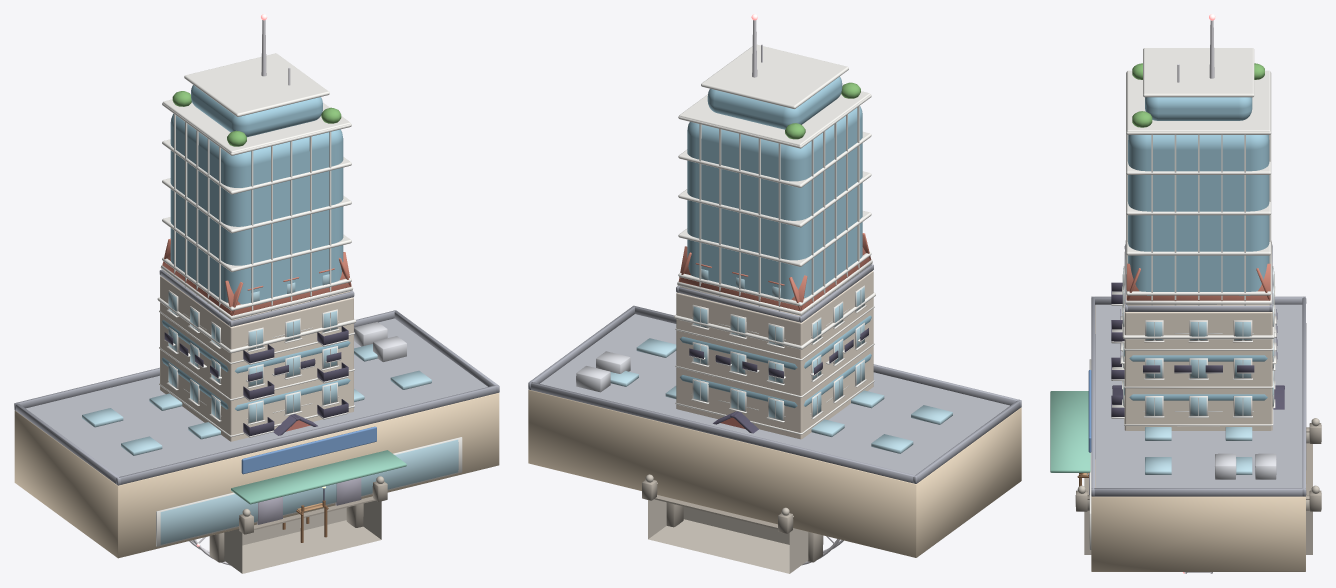
The model's file is kit.glb.
The picture shows the model from 3 angles, left to right: view 1: azimuth 30°, elevation 25°; view 2: azimuth 150°, elevation 25°; view 3: azimuth 270°, elevation 25°; orthographic projection. The views are drawn at different scales.
Parts seen in each view (by area): view 1: Market, City_Tower, City_Apartment, Bridge, City_Office, City_Parisian; view 2: Market, City_Tower, City_Apartment, Bridge, City_Office, City_Parisian; view 3: Market, City_Tower, City_Apartment, City_Office, City_Parisian, Bridge, Barn.
Part boxes in pixels (x1=…): Market: x1=14, y1=310, x2=499, y2=558; City_Tower: x1=162, y1=14, x2=351, y2=315; City_Apartment: x1=159, y1=269, x2=354, y2=441; Bridge: x1=209, y1=476, x2=387, y2=573; City_Office: x1=157, y1=67, x2=356, y2=437; City_Parisian: x1=160, y1=238, x2=352, y2=419; Market: x1=528, y1=305, x2=1021, y2=557; City_Tower: x1=678, y1=14, x2=871, y2=311; City_Apartment: x1=675, y1=264, x2=874, y2=439; Bridge: x1=642, y1=474, x2=823, y2=573; City_Office: x1=674, y1=44, x2=875, y2=436; City_Parisian: x1=677, y1=233, x2=872, y2=416; Market: x1=1050, y1=296, x2=1306, y2=571; City_Tower: x1=1126, y1=14, x2=1271, y2=305; City_Apartment: x1=1111, y1=244, x2=1275, y2=430; City_Office: x1=1122, y1=64, x2=1274, y2=430; City_Parisian: x1=1120, y1=240, x2=1277, y2=411; Bridge: x1=1075, y1=418, x2=1321, y2=554; Barn: x1=1112, y1=385, x2=1284, y2=409.
Size of the model in its own units: 34 by 45.76 by 20.19.
